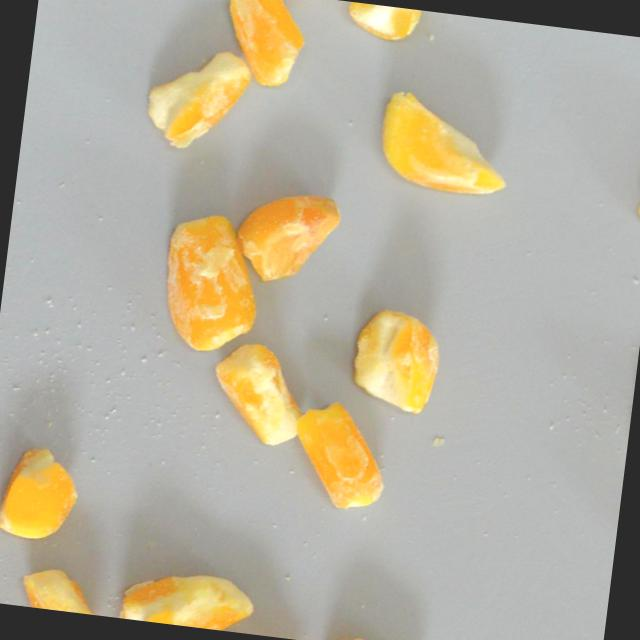dañado: (151, 203, 270, 362), (135, 38, 256, 160), (283, 393, 398, 517), (204, 335, 321, 453), (228, 182, 347, 290), (340, 301, 448, 419), (114, 559, 263, 635), (0, 440, 87, 547), (215, 0, 311, 92), (14, 562, 119, 617), (625, 135, 640, 237), (318, 627, 424, 640)
punto_negro: (371, 82, 521, 202), (340, 1, 426, 46)
